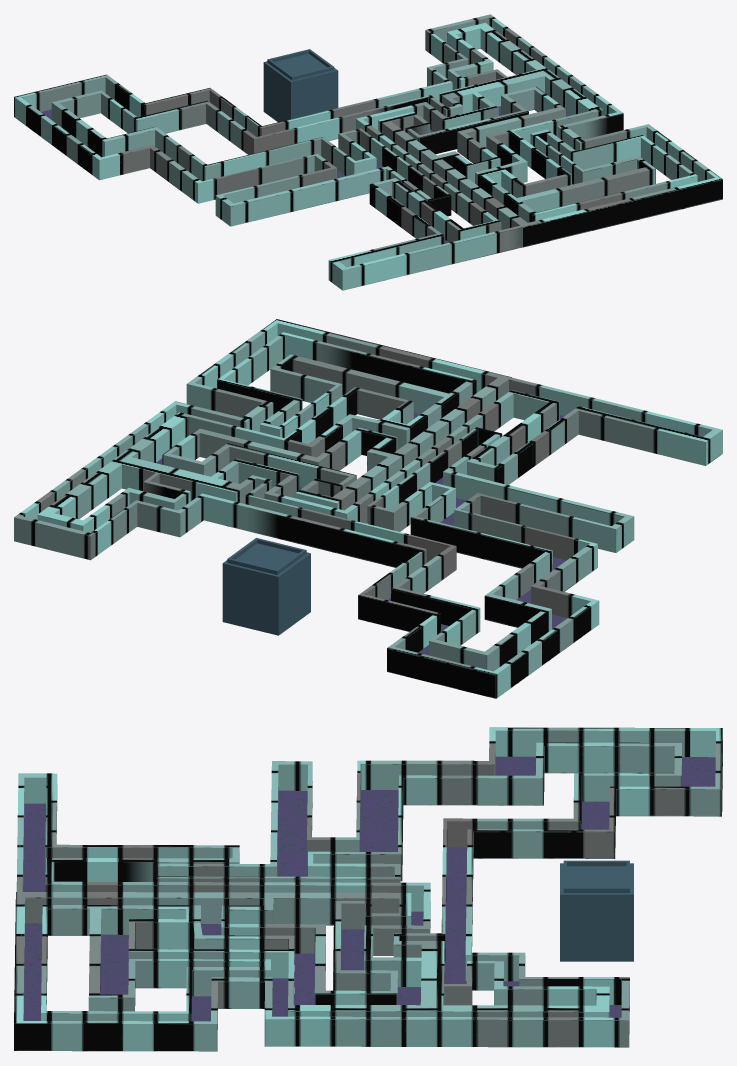
File: portal-maze.glb
The picture shows the model from 3 angles, top to bottom: view 1: azimuth 30°, elevation 25°; view 2: azimuth 150°, elevation 25°; view 3: azimuth 270°, elevation 25°; orthographic projection. The views are drawn at different scales.
Visible parts, largest first — view 1: Cube.001, Cube.002; view 2: Cube.001, Cube.002, Cube; view 3: Cube.001, Cube, Cube.002.
Boxes of the visible parts, left/top/right/bottom form: Cube.001: left=14, top=14, right=722, bottom=290; Cube.002: left=263, top=49, right=338, bottom=122; Cube.001: left=14, top=319, right=722, bottom=698; Cube.002: left=222, top=538, right=310, bottom=635; Cube: left=156, top=394, right=567, bottom=655; Cube.001: left=14, top=727, right=722, bottom=1051; Cube: left=23, top=756, right=715, bottom=1021; Cube.002: left=560, top=860, right=633, bottom=961.
Bounding box in the file's own units: 368 × 41.34 × 372.
3 materials, 3 textured.
